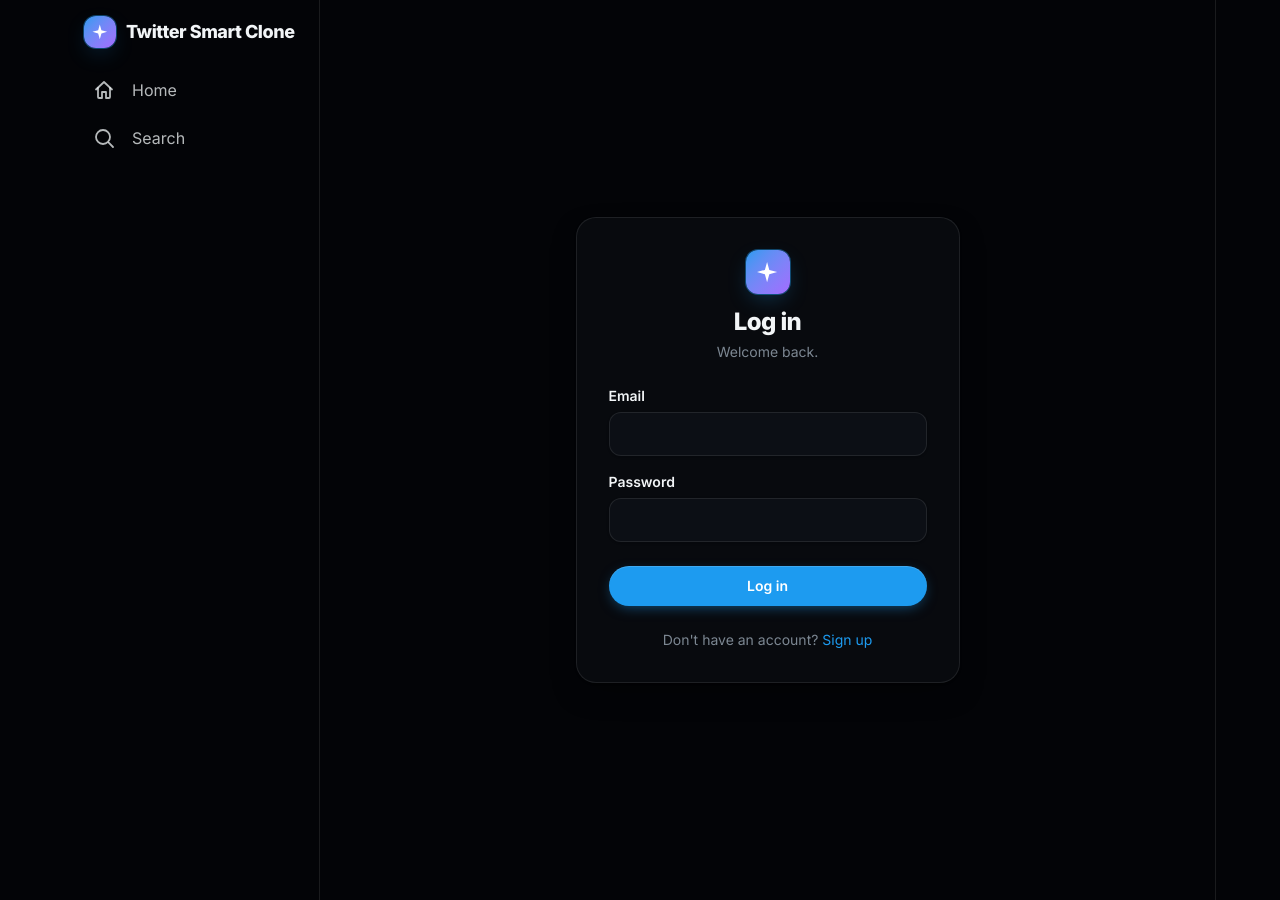
Test case: Authentication end-to-end flows › redirects to login when there is no valid session, and logging in reaches the protected route
This screenshot has width=1280, height=900.
Expected: the heading "Log in" is shown, x1=734 y1=307 x2=801 y2=336
Type "ada@example.com" into the field labelled "Email" at (768,434), box x1=608 y1=412 x2=926 y2=456
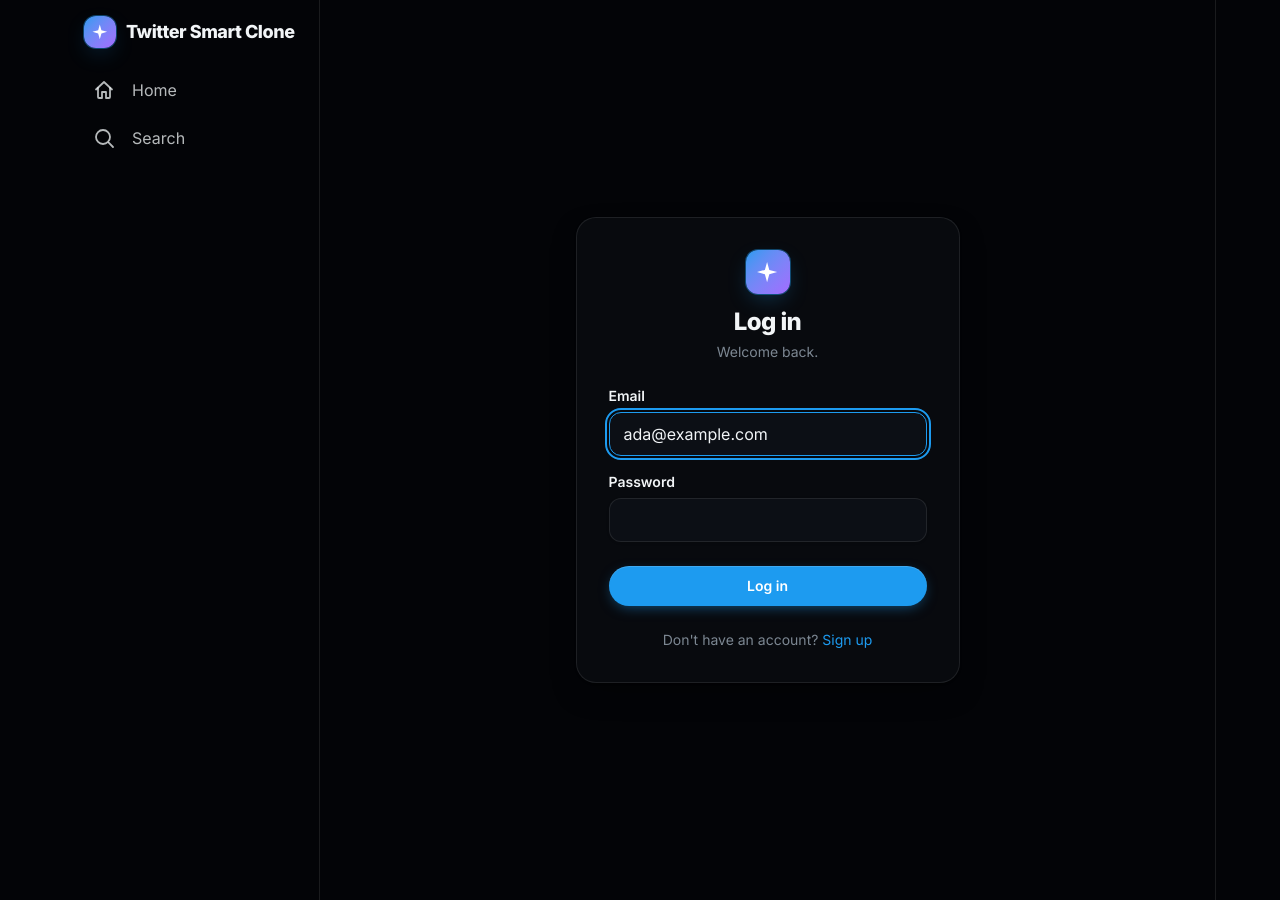
Type "correct horse battery staple" into the password field labelled "Password" at (768,520), box x1=608 y1=498 x2=926 y2=542
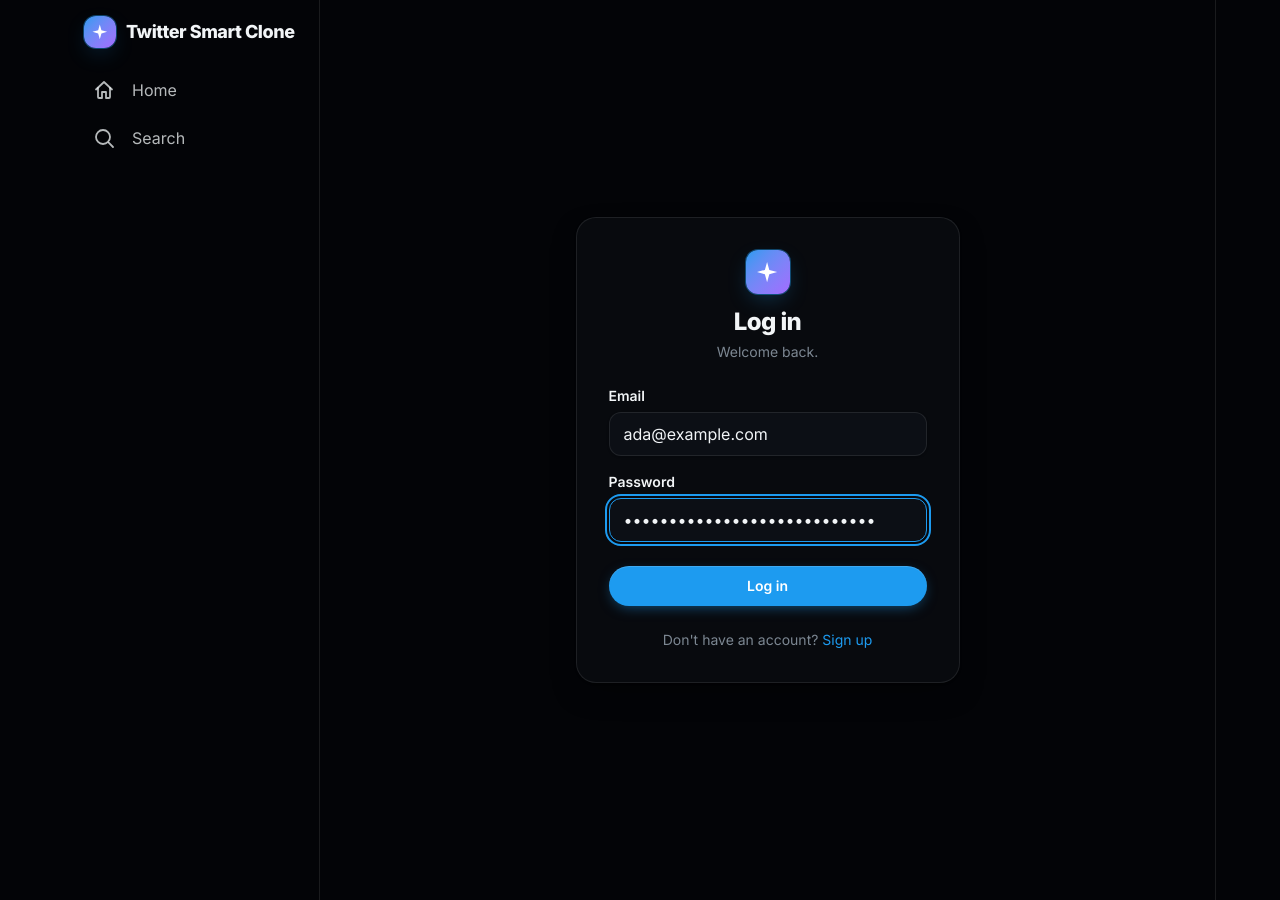
Click the button "Log in" at (768,586), box x1=608 y1=566 x2=926 y2=606
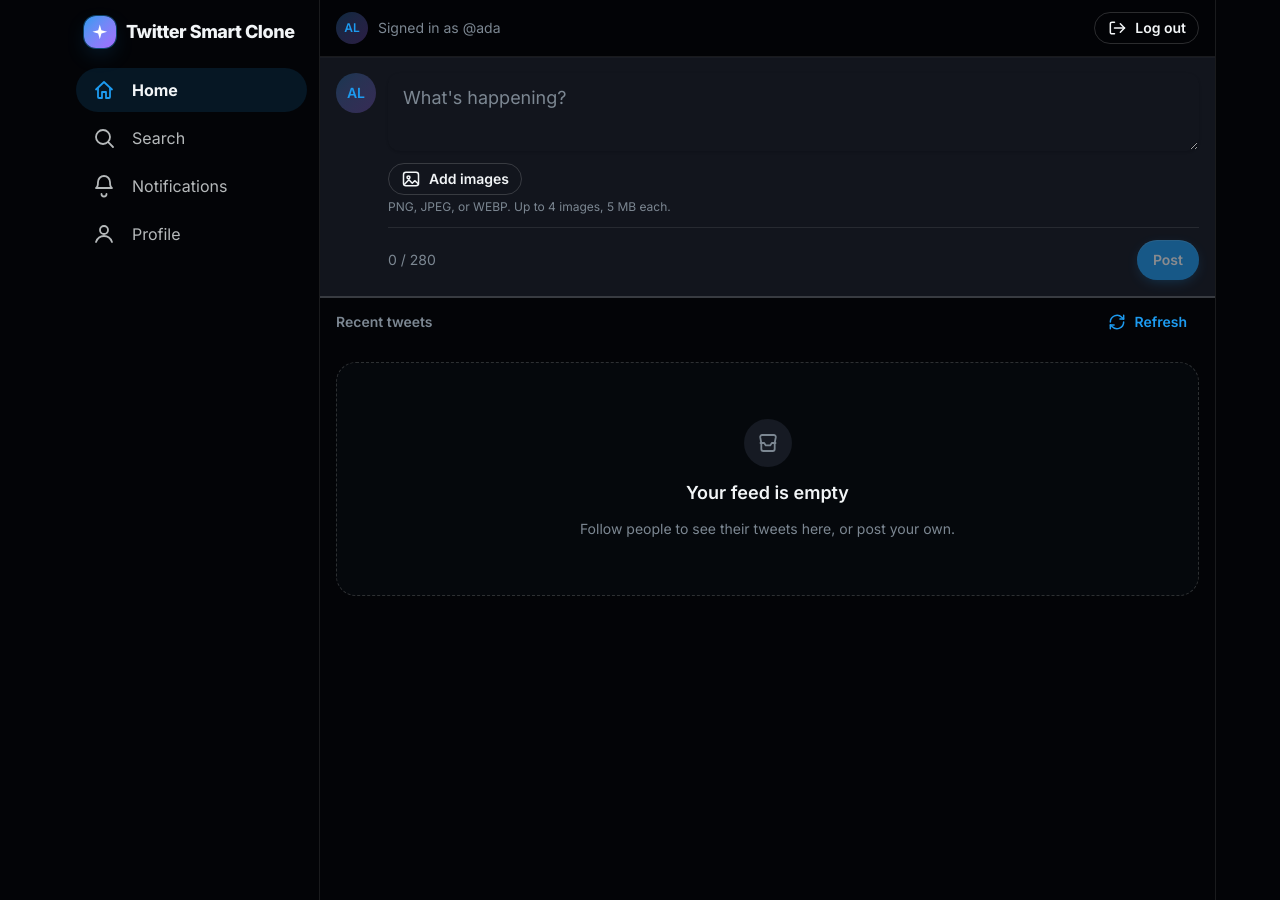
Expected: the text "Signed in as @ada" is shown, x1=378 y1=18 x2=500 y2=38
